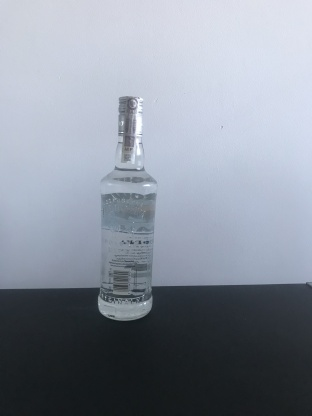nakretka: (115, 93, 144, 138)
